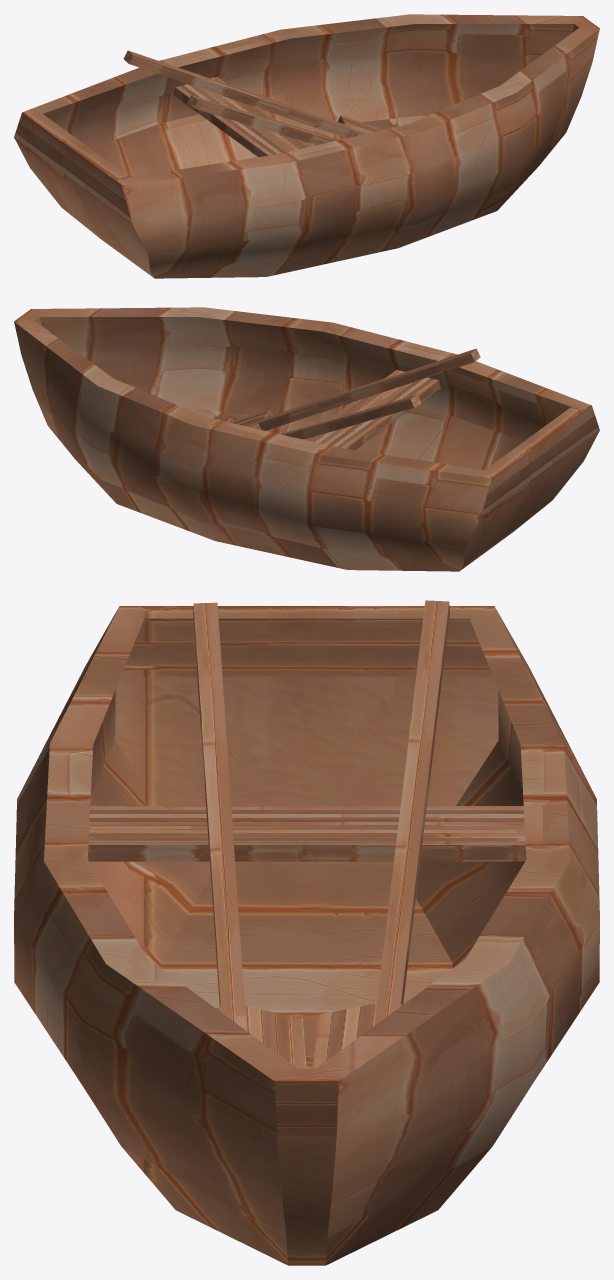
Rendered from sandal.FBX.
3 views of the same model, one above another, from view 1: azimuth 30°, elevation 25°; view 2: azimuth 150°, elevation 25°; view 3: azimuth 270°, elevation 25° (orthographic). The views are drawn at different scales.
Visible parts, largest first — view 1: Plane001, Box003, Box001, Box002; view 2: Plane001, Box002, Box001, Box003; view 3: Plane001, Box001, Box003, Box002.
Part boxes in pixels (x1,y1,x2,y2): Plane001: [14, 14, 599, 278]; Box003: [123, 50, 382, 138]; Box001: [173, 77, 311, 156]; Box002: [187, 95, 339, 145]; Plane001: [14, 307, 599, 571]; Box002: [230, 348, 480, 430]; Box001: [302, 370, 440, 449]; Box003: [280, 394, 421, 439]; Plane001: [14, 606, 599, 1265]; Box001: [87, 806, 526, 861]; Box003: [311, 600, 449, 1068]; Box002: [193, 602, 306, 1068].
Bounding box in the file's own units: 306 × 101 × 159.
Materials: 1 (1 with a texture image).
